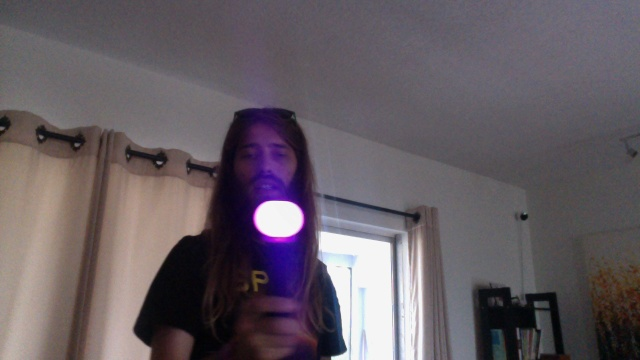wand: (255, 201, 303, 236)
